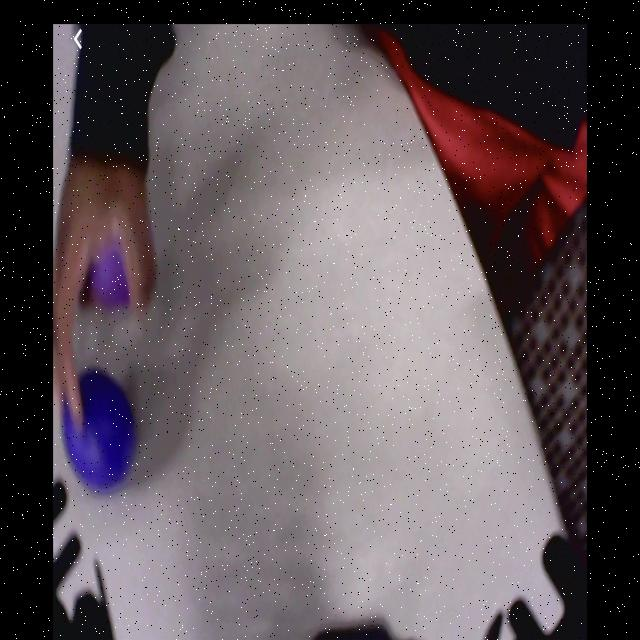ball: (64, 373, 138, 490), (85, 240, 138, 311)
